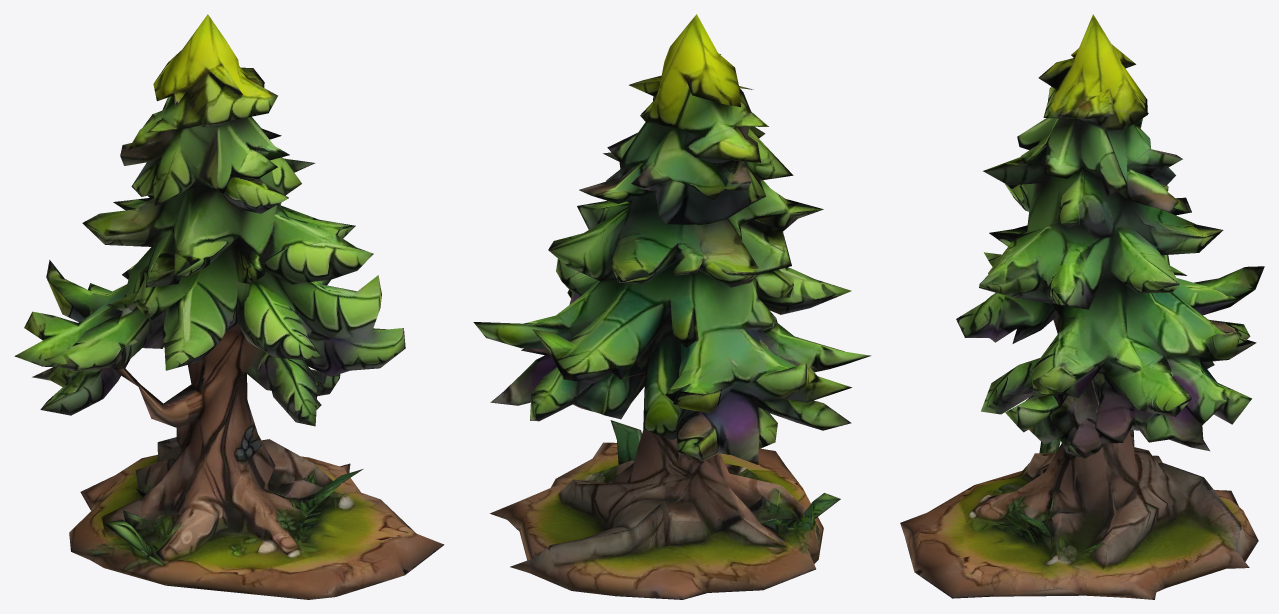
File: tree2.glb
3 views of the same model, side by side, from view 1: azimuth 30°, elevation 25°; view 2: azimuth 150°, elevation 25°; view 3: azimuth 270°, elevation 25° (orthographic). The views are drawn at different scales.
Size of the model in its own units: 1.4 by 2 by 1.3.
Materials: 1 (1 with a texture image).
